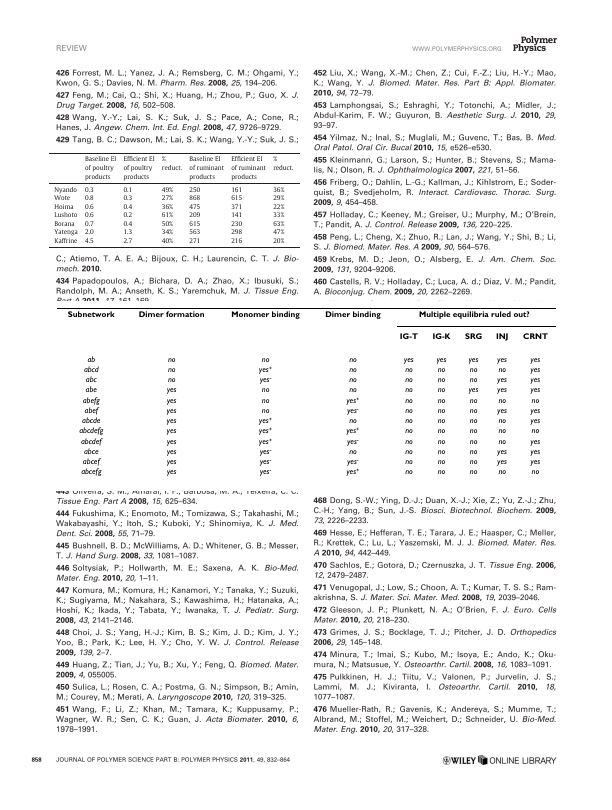borderless: (55, 306, 557, 485), (48, 151, 300, 247)
cell: (417, 311, 530, 320), (188, 156, 225, 181), (230, 156, 267, 181), (84, 156, 117, 181), (123, 156, 156, 181), (230, 311, 300, 320), (137, 311, 205, 320), (324, 311, 381, 320), (66, 311, 115, 320), (272, 156, 295, 172), (161, 156, 183, 172), (522, 333, 548, 342), (78, 427, 104, 436), (53, 237, 79, 246), (79, 437, 102, 447), (53, 211, 78, 220), (53, 229, 79, 237), (53, 186, 78, 194), (80, 468, 102, 477), (81, 396, 100, 406), (53, 220, 76, 228), (398, 333, 418, 342), (431, 333, 451, 342), (463, 333, 483, 342), (81, 417, 101, 426), (53, 203, 75, 211), (81, 458, 100, 467), (82, 365, 99, 375), (82, 447, 99, 457), (53, 194, 71, 203), (83, 406, 99, 416), (258, 365, 273, 375), (345, 396, 360, 406), (258, 437, 273, 447), (258, 447, 272, 457), (494, 333, 509, 342), (258, 417, 273, 426), (258, 427, 273, 436), (345, 427, 360, 436), (345, 468, 360, 477), (346, 406, 359, 416), (346, 437, 359, 447), (258, 376, 272, 385), (258, 458, 272, 467), (258, 468, 272, 477), (435, 355, 447, 365), (467, 355, 479, 365), (529, 355, 541, 365), (529, 365, 541, 375), (165, 396, 177, 406), (165, 406, 177, 416), (529, 406, 541, 416), (165, 437, 177, 447), (529, 437, 541, 447), (165, 447, 177, 457), (529, 447, 541, 457), (84, 376, 97, 385), (84, 386, 97, 395), (346, 458, 359, 467), (161, 194, 174, 203), (188, 194, 201, 203), (230, 194, 243, 203), (272, 194, 285, 203), (161, 211, 174, 220), (188, 211, 201, 220), (230, 211, 243, 220), (272, 211, 285, 220), (161, 237, 174, 246), (188, 237, 201, 246), (230, 237, 243, 246), (272, 237, 285, 246), (403, 355, 414, 365), (496, 355, 507, 365), (496, 406, 507, 416), (496, 447, 507, 457), (529, 376, 541, 385), (165, 386, 177, 395), (467, 386, 479, 395), (529, 386, 541, 395), (165, 417, 177, 426), (529, 417, 541, 426), (165, 427, 177, 436), (165, 458, 177, 467), (529, 458, 541, 467), (165, 468, 177, 477), (161, 186, 174, 194), (188, 186, 201, 194), (230, 186, 243, 194), (272, 186, 285, 194), (161, 203, 174, 211), (188, 203, 201, 211), (230, 203, 243, 211), (272, 203, 285, 211), (161, 220, 174, 228), (188, 220, 201, 228), (230, 220, 243, 228), (272, 220, 285, 228), (161, 229, 174, 237), (188, 229, 201, 237), (230, 229, 243, 237), (272, 229, 285, 237), (86, 355, 96, 365), (166, 355, 176, 365), (260, 355, 270, 365), (166, 365, 176, 375), (436, 365, 446, 375), (468, 365, 478, 375), (260, 396, 270, 406), (436, 396, 446, 406), (468, 396, 478, 406), (530, 396, 540, 406), (260, 406, 270, 416), (436, 406, 446, 416), (468, 406, 478, 416), (436, 437, 446, 447), (468, 437, 478, 447), (436, 447, 446, 457), (468, 447, 478, 457), (496, 376, 507, 385), (496, 386, 507, 395), (496, 458, 507, 467), (84, 194, 95, 203), (84, 211, 95, 220), (84, 237, 95, 246), (348, 355, 357, 365), (348, 365, 357, 375), (404, 365, 413, 375), (497, 365, 506, 375), (166, 376, 176, 385), (436, 376, 446, 385), (468, 376, 478, 385), (260, 386, 270, 395), (436, 386, 446, 395), (404, 396, 413, 406), (497, 396, 506, 406), (404, 406, 413, 416), (436, 417, 446, 426), (468, 417, 478, 426), (436, 427, 446, 436), (468, 427, 478, 436), (530, 427, 540, 436), (404, 437, 413, 447), (497, 437, 506, 447), (348, 447, 357, 457), (404, 447, 413, 457), (436, 458, 446, 467), (468, 458, 478, 467), (436, 468, 446, 477), (468, 468, 478, 477), (530, 468, 540, 477), (123, 194, 133, 203), (123, 211, 133, 220), (123, 237, 133, 246), (84, 186, 95, 194), (84, 203, 95, 211), (84, 220, 95, 228), (84, 229, 95, 237), (348, 376, 357, 385), (404, 376, 413, 385), (348, 386, 357, 395), (404, 386, 413, 395), (348, 417, 357, 426), (404, 417, 413, 426), (497, 417, 506, 426), (404, 427, 413, 436), (497, 427, 506, 436), (404, 458, 413, 467), (404, 468, 413, 477), (497, 468, 506, 477), (123, 186, 133, 194), (123, 203, 133, 211), (123, 220, 133, 228), (123, 229, 133, 237)
